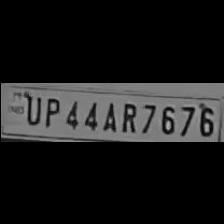4: (79, 96, 98, 130), (60, 96, 80, 128)
6: (156, 102, 176, 134), (196, 102, 214, 136)
7: (176, 102, 194, 136), (138, 100, 156, 132)
A: (98, 98, 118, 130)
P: (39, 93, 59, 127)
R: (117, 99, 137, 133)
U: (20, 92, 40, 125)
